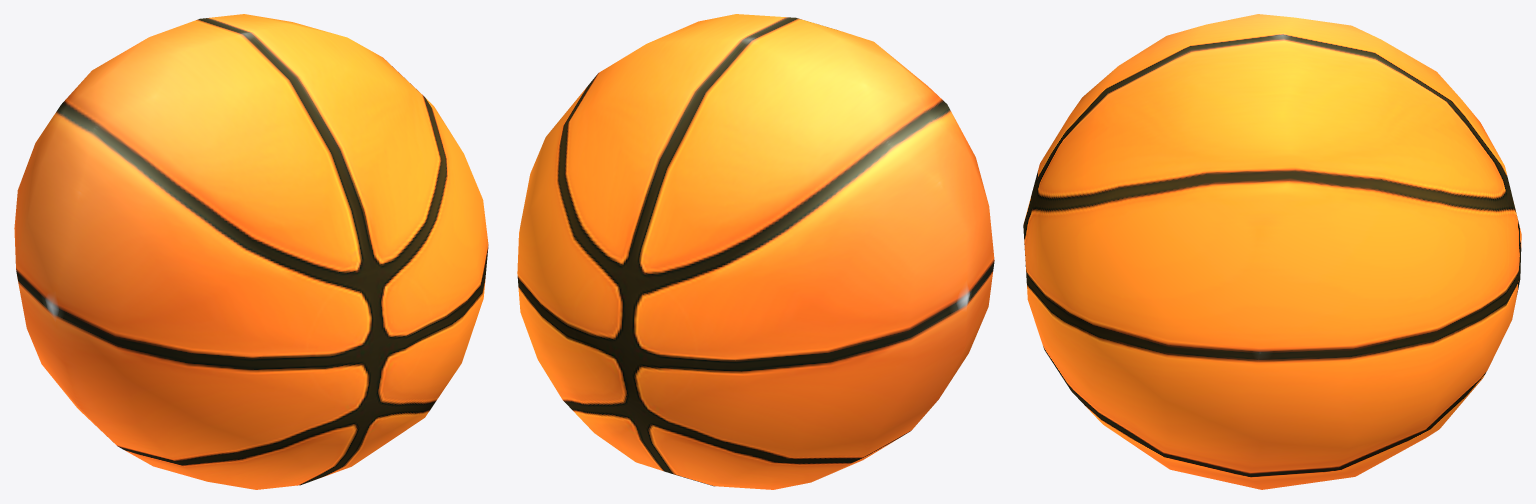
Rendered from orange_basketball.glb.
3 views of the same model, side by side, from view 1: azimuth 30°, elevation 25°; view 2: azimuth 150°, elevation 25°; view 3: azimuth 270°, elevation 25° (orthographic).
Parts seen in each view (by area): view 1: Orange_Basketball; view 2: Orange_Basketball; view 3: Orange_Basketball.
Boxes of the visible parts, <box> form: Orange_Basketball: <box>14,14,488,489</box>; Orange_Basketball: <box>517,14,994,489</box>; Orange_Basketball: <box>1023,14,1521,489</box>.
Size of the model in its own units: 0.6666 by 0.6668 by 0.6952.
Materials: 1 (1 with a texture image).
